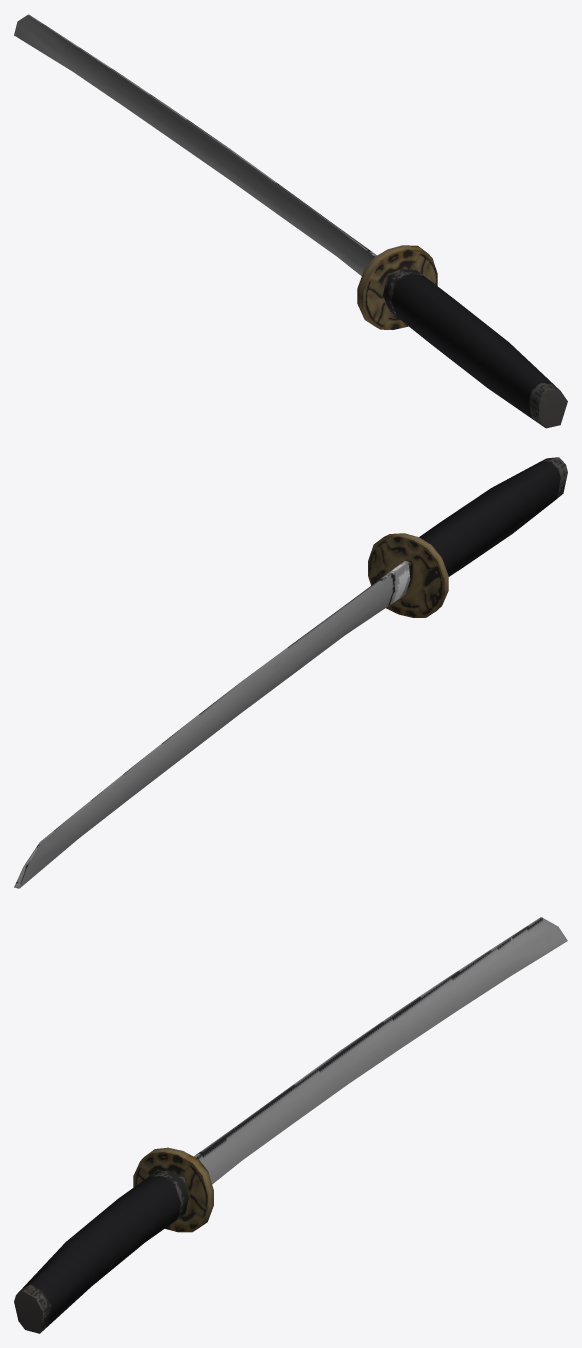
Rendered from Blade_Katana.glb.
3 renders of one model, top to bottom at view 1: azimuth 30°, elevation 25°; view 2: azimuth 150°, elevation 25°; view 3: azimuth 330°, elevation 25°, orthographic.
Visible parts, largest first — view 1: Blade_Katana; view 2: Blade_Katana; view 3: Blade_Katana.
Boxes of the visible parts, x1=… form: Blade_Katana: x1=14, y1=14, x2=567, y2=428; Blade_Katana: x1=14, y1=457, x2=567, y2=888; Blade_Katana: x1=14, y1=917, x2=567, y2=1333.
Size of the model in its own units: 0.0838 by 0.0821 by 1.02.
Materials: 1 (1 with a texture image).
